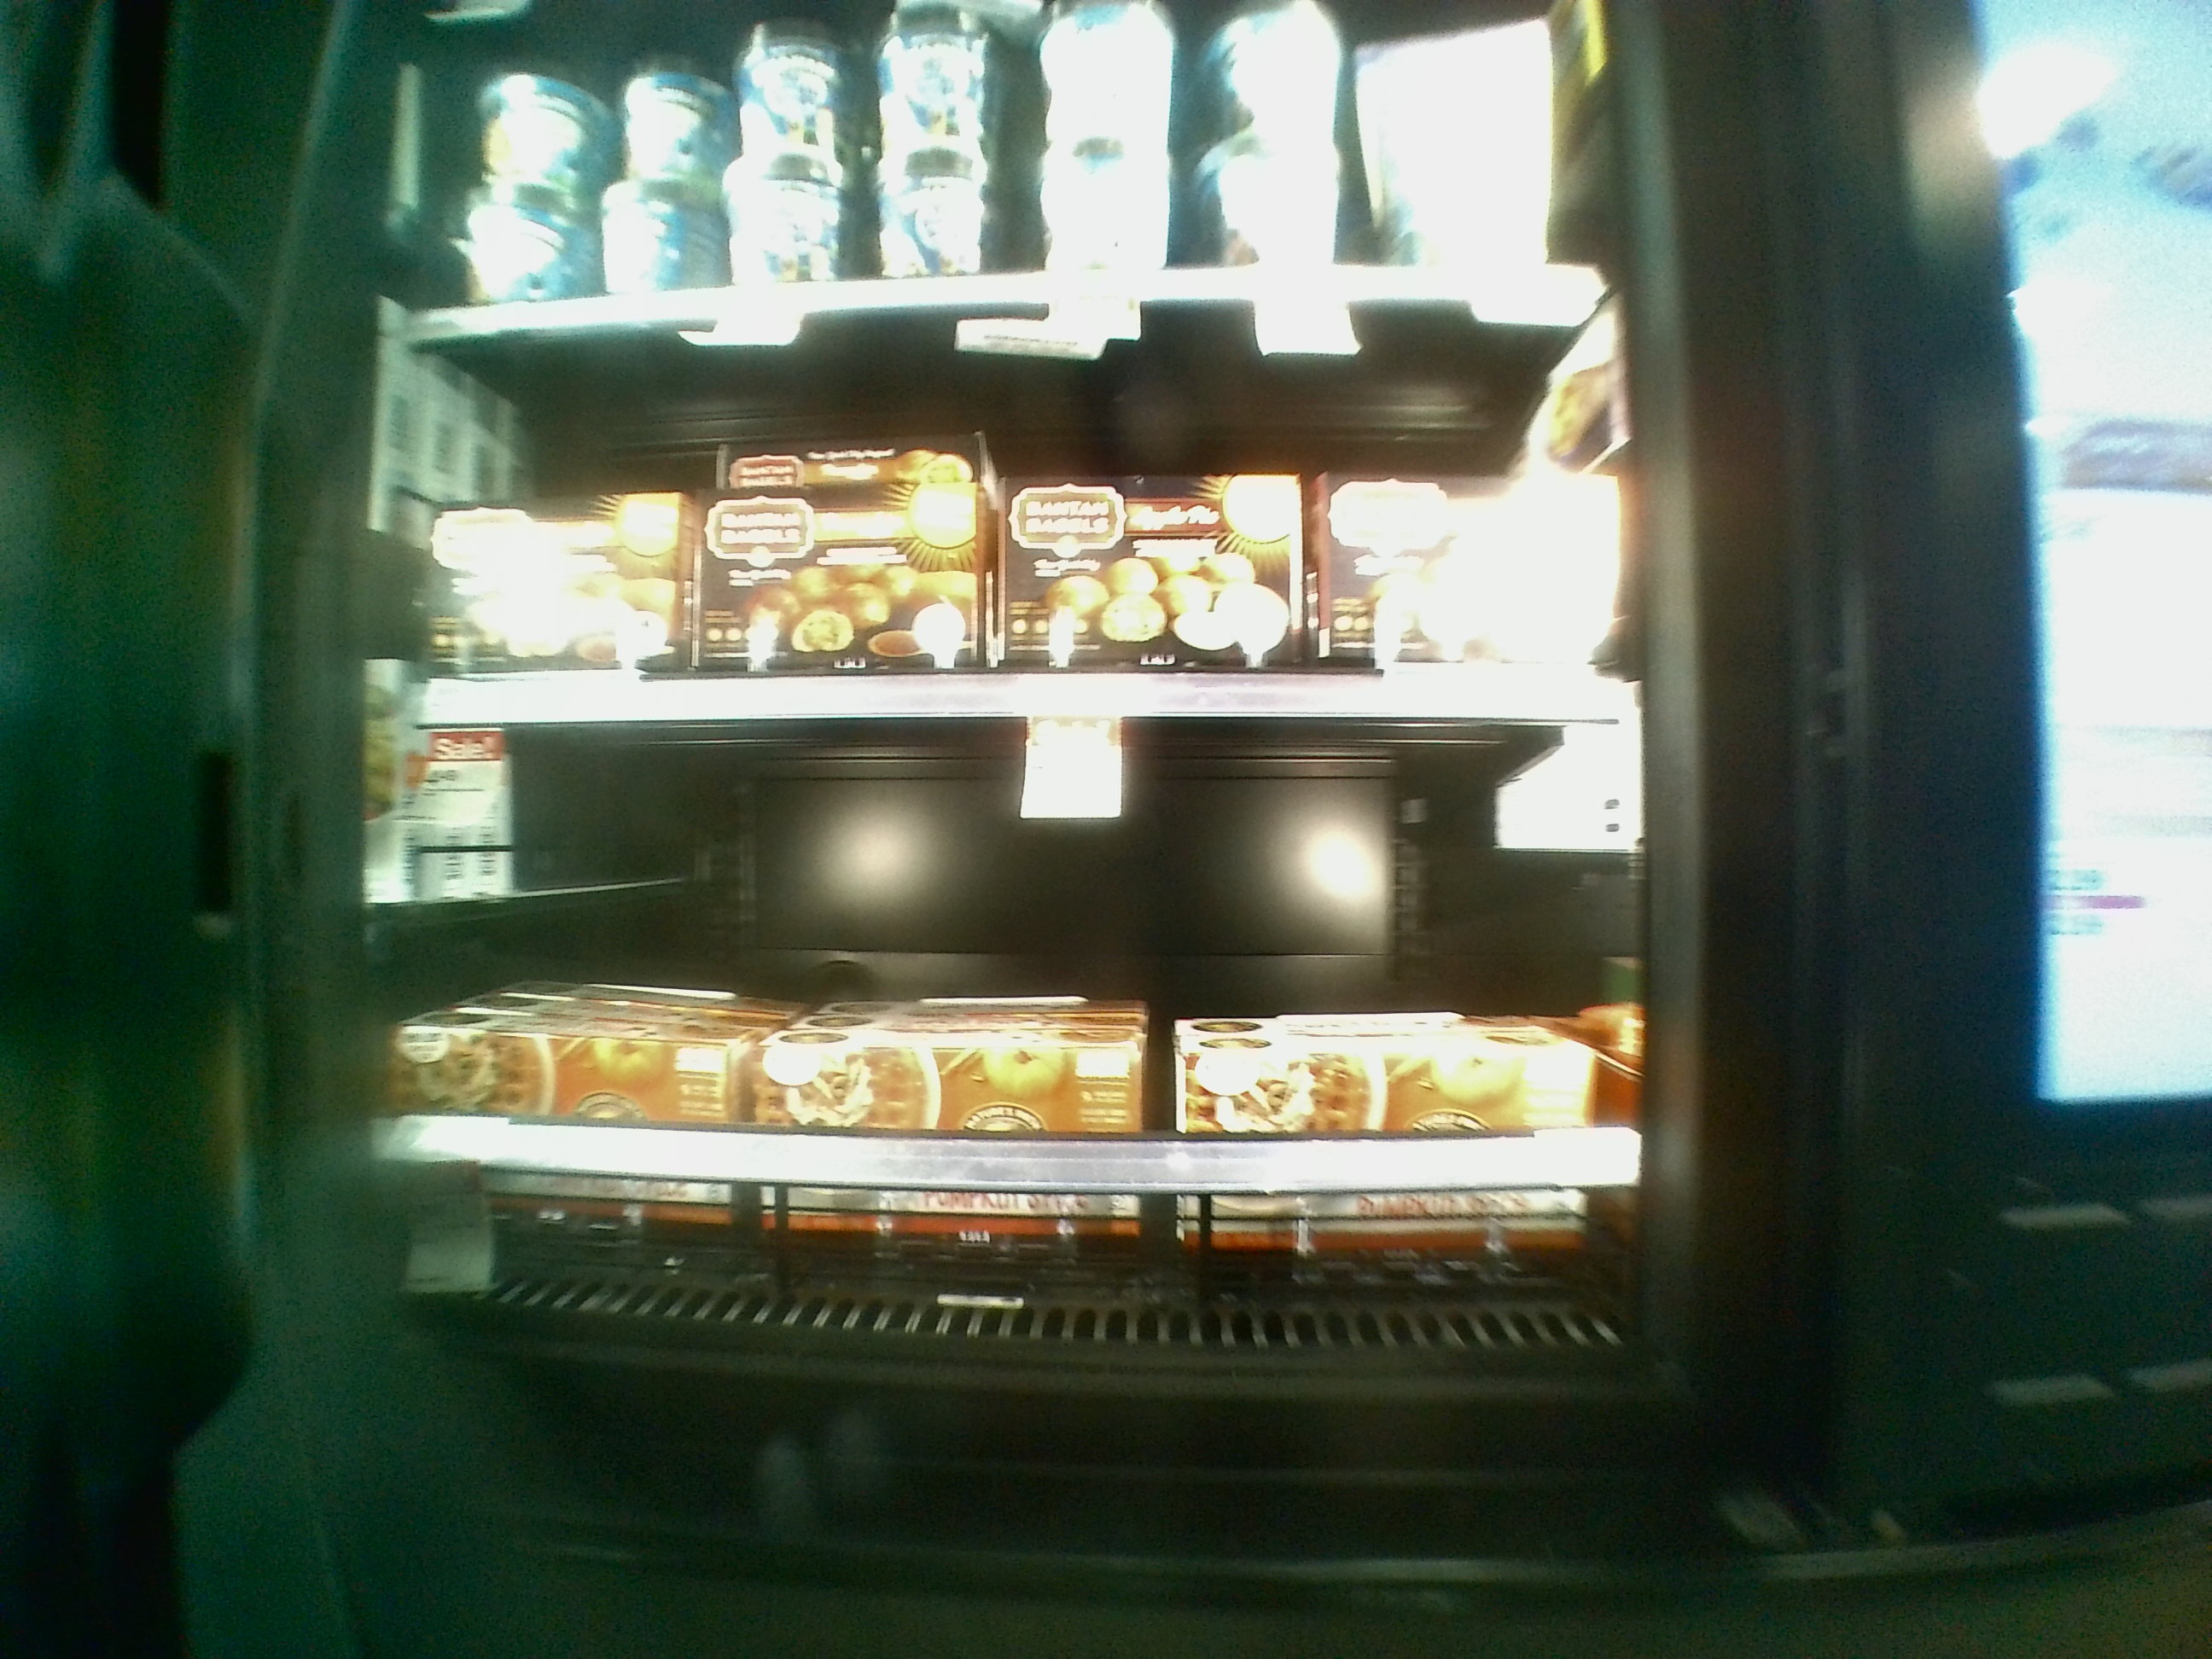shelf: (383, 680, 1656, 1363), (380, 336, 1620, 718)
